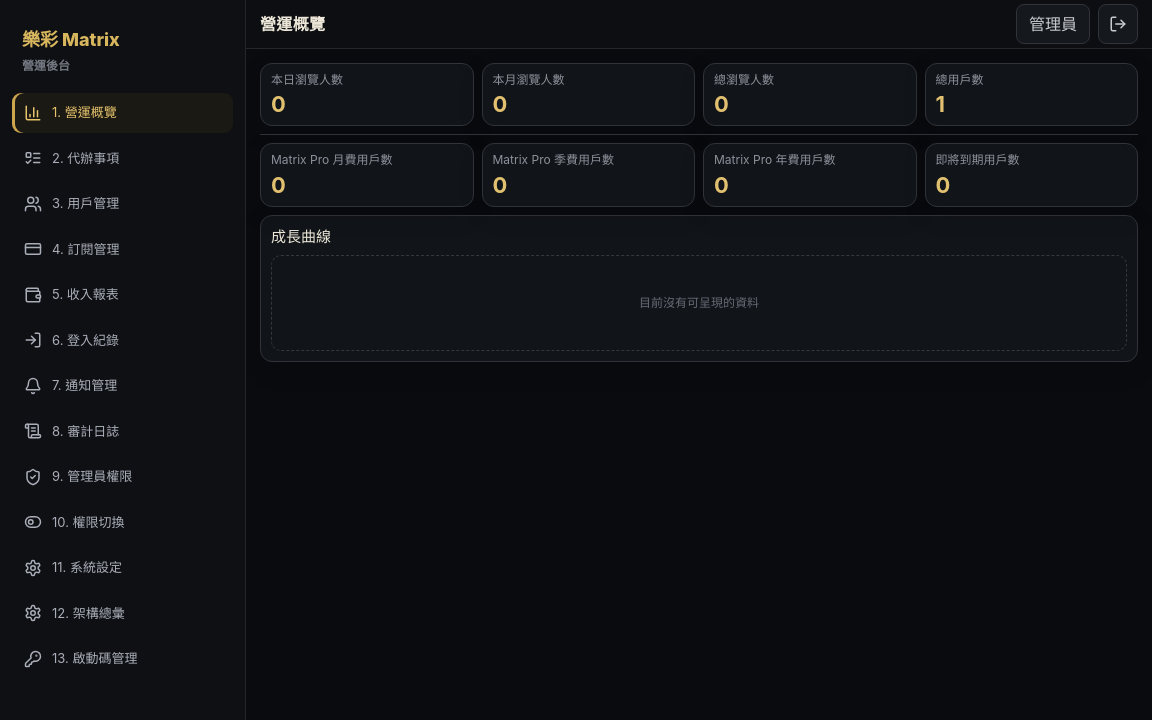
Scenario: subscription expiry save recovery › opens the expiry editor on the Taiwan calendar day across UTC midnight
This screenshot has width=1152, height=720.
Click the button "4. 訂閱管理" at (122,249), box [12, 230, 233, 269]
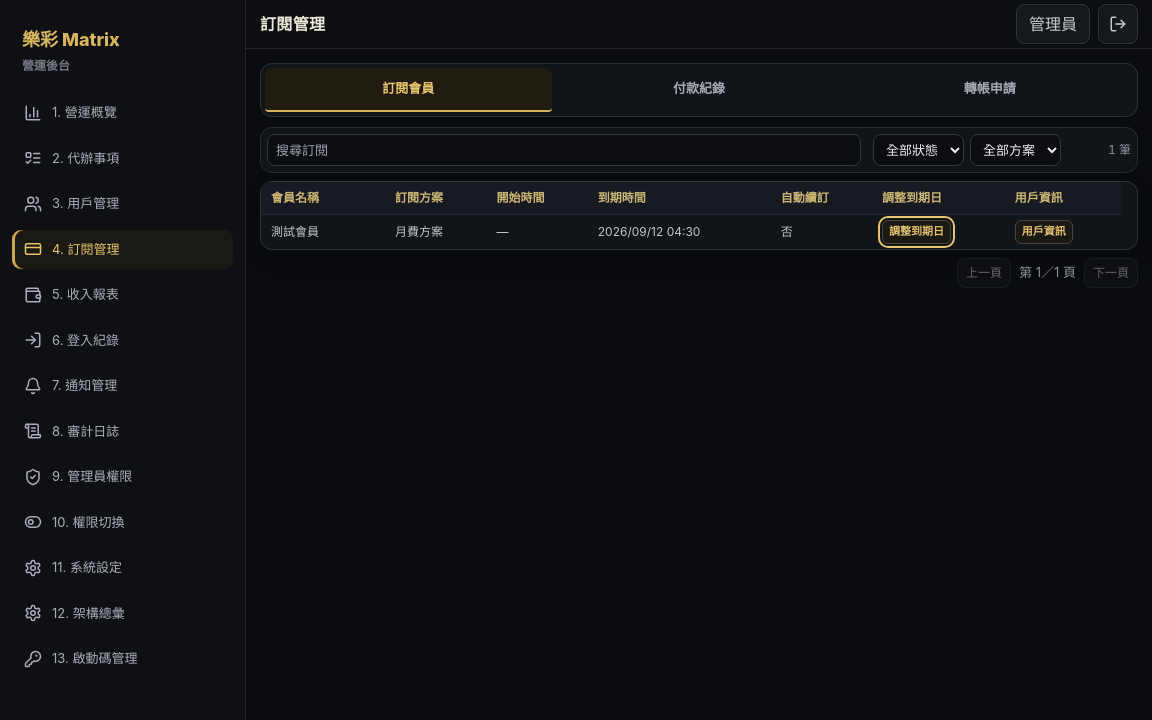
Click the button "調整到期日" at (916,232), box [882, 220, 951, 244]
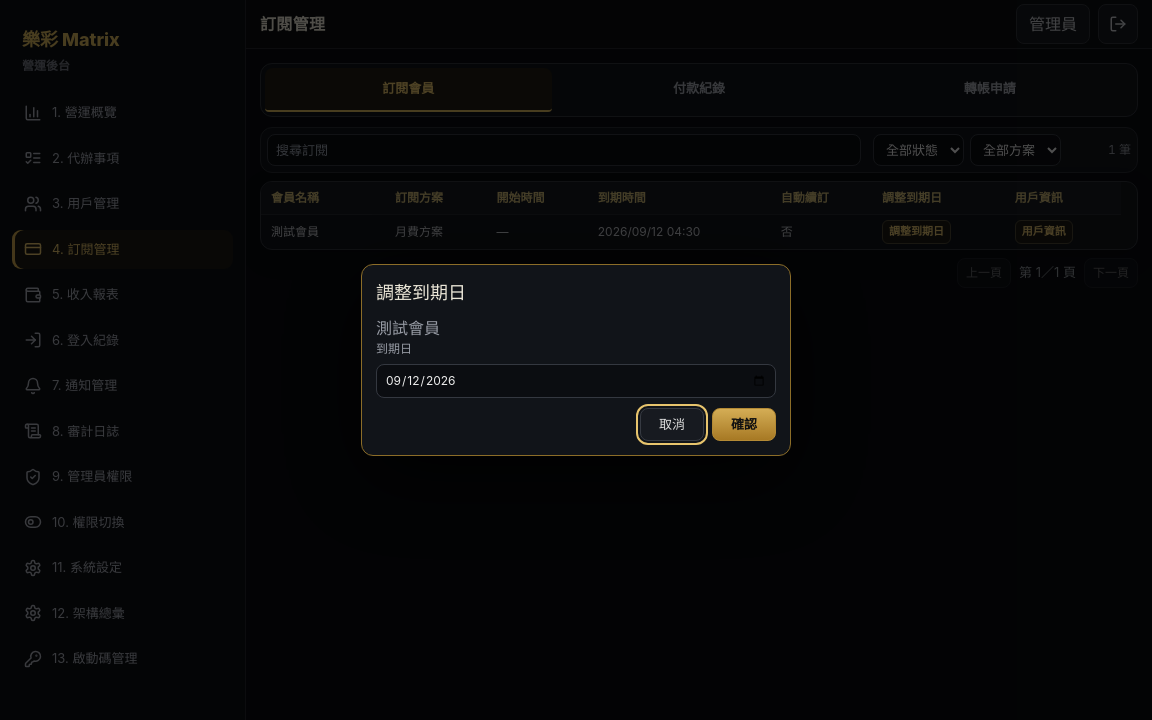
Expected: the date field labelled "到期日" holds "2026-09-12", [376, 364, 776, 398]
